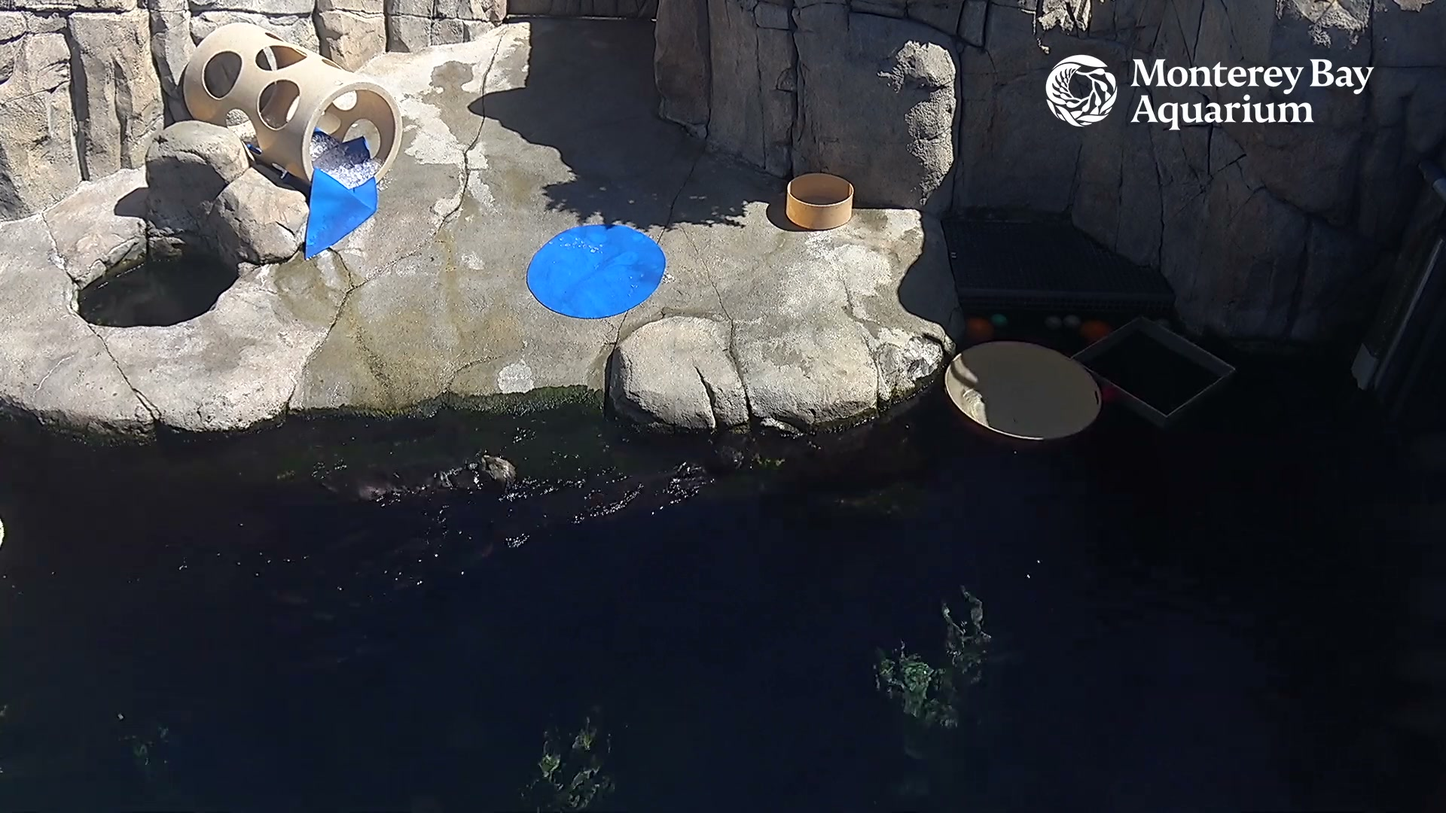Southern Sea Otter: (354, 447, 535, 538)
